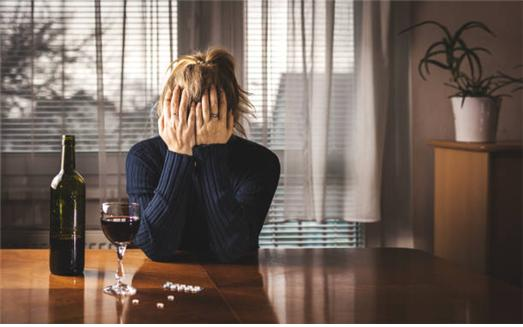alcohol: (47, 134, 87, 277), (100, 202, 141, 297)
